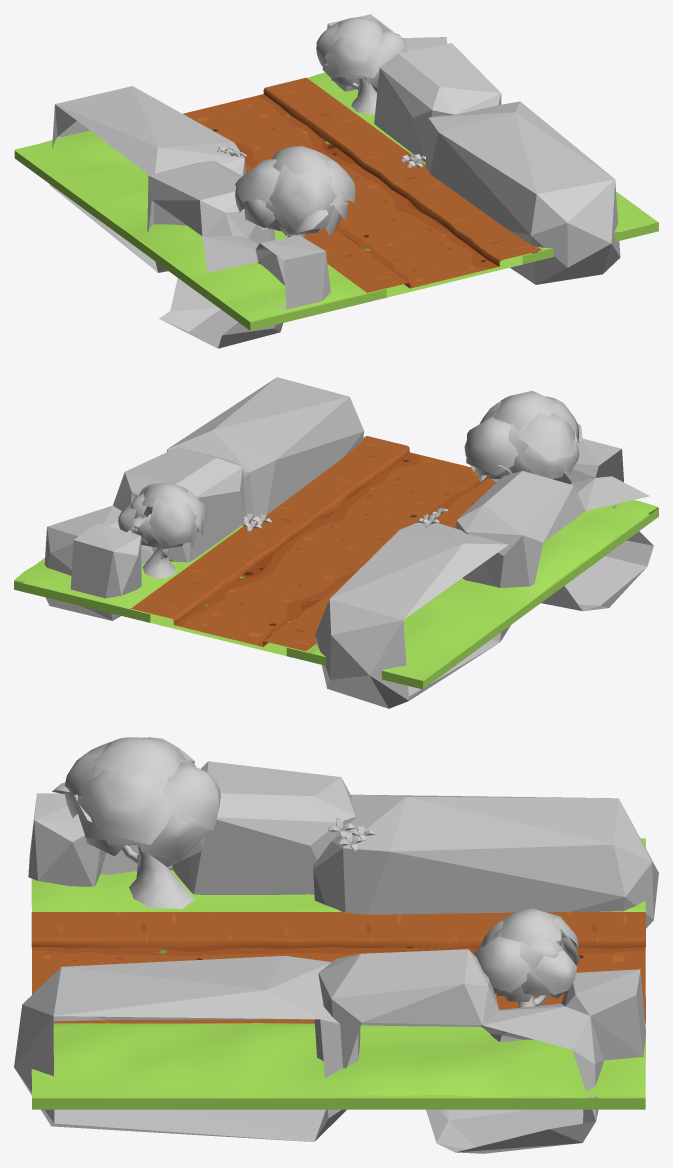
Rendered from Forest3.fbx.
3 renders of one model, top to bottom at view 1: azimuth 30°, elevation 25°; view 2: azimuth 150°, elevation 25°; view 3: azimuth 270°, elevation 25°, orthographic. The views are drawn at different scales.
Parts seen in each view (by area): view 1: Rock8.001, Rock6, Plane.025, road_I_2.062, Rock8, Rock6.001, road_I_2.057, BOSQUELOWPOLY.013, Cube.023, BOSQUELOWPOLY.080, road_I_2.060, road_I_2.056 (+1 smaller); view 2: Plane.025, Rock8, Rock6, Rock6.001, Rock8.001, road_I_2.062, road_I_2.057, BOSQUELOWPOLY.013, Cube.023, BOSQUELOWPOLY.080, road_I_2.060, road_I_2.061 (+1 smaller); view 3: road_I_2.061, Rock8, Rock6.001, Rock8.001, Rock6, BOSQUELOWPOLY.013, road_I_2.060, Cube.023, BOSQUELOWPOLY.080, Plane.025, road_I_2.062, road_I_2.052 (+1 smaller).
Part boxes in pixels (x1,y1,x2,y2): Rock8.001: (425,101,620,284); Rock6: (147,161,330,348); Plane.025: (183,94,498,288); road_I_2.062: (14,131,366,321); Rock8: (49,86,245,272); Rock6.001: (322,14,501,162); road_I_2.057: (265,77,541,260); BOSQUELOWPOLY.013: (235,145,355,238); Cube.023: (14,145,658,330); BOSQUELOWPOLY.080: (316,17,407,114); road_I_2.060: (245,163,408,292); road_I_2.056: (263,88,500,266); Plane.025: (174,452,487,646); Rock8: (315,520,510,708); Rock6: (456,438,653,611); Rock6.001: (44,447,245,620); Rock8.001: (167,377,364,517); road_I_2.062: (308,500,658,680); road_I_2.057: (131,436,407,618); BOSQUELOWPOLY.013: (464,391,582,482); Cube.023: (14,436,658,689); BOSQUELOWPOLY.080: (118,482,206,578); road_I_2.060: (265,478,496,651); road_I_2.061: (14,436,364,609); road_I_2.061: (31,1022,645,1098); Rock8: (313,794,658,928); Rock6.001: (314,949,645,1153); Rock8.001: (14,955,360,1141); Rock6: (28,761,355,894); BOSQUELOWPOLY.013: (52,737,220,908); road_I_2.060: (31,912,645,939); Cube.023: (32,839,645,1109); BOSQUELOWPOLY.080: (473,908,579,1007); Plane.025: (32,947,645,996); road_I_2.062: (31,838,645,911); road_I_2.052: (31,938,645,948).
Bounding box in the file's own units: 10574 × 4044 × 10506.
